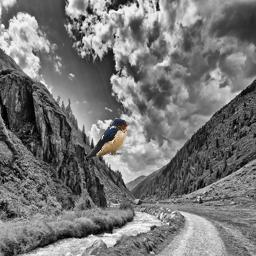Swallow: (84, 118, 130, 159)
